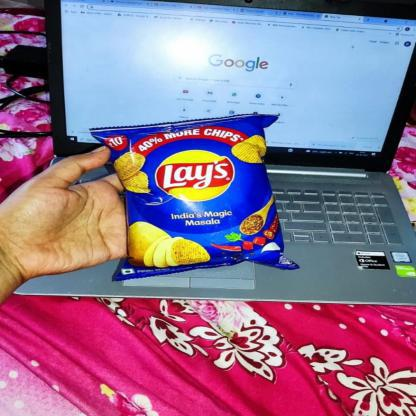indian_magic_masala: (92, 115, 299, 277)
